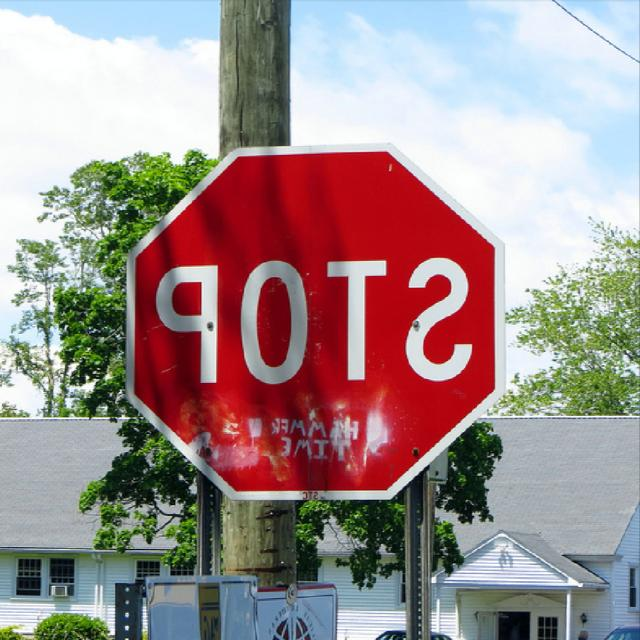STOP: (117, 140, 517, 499)
